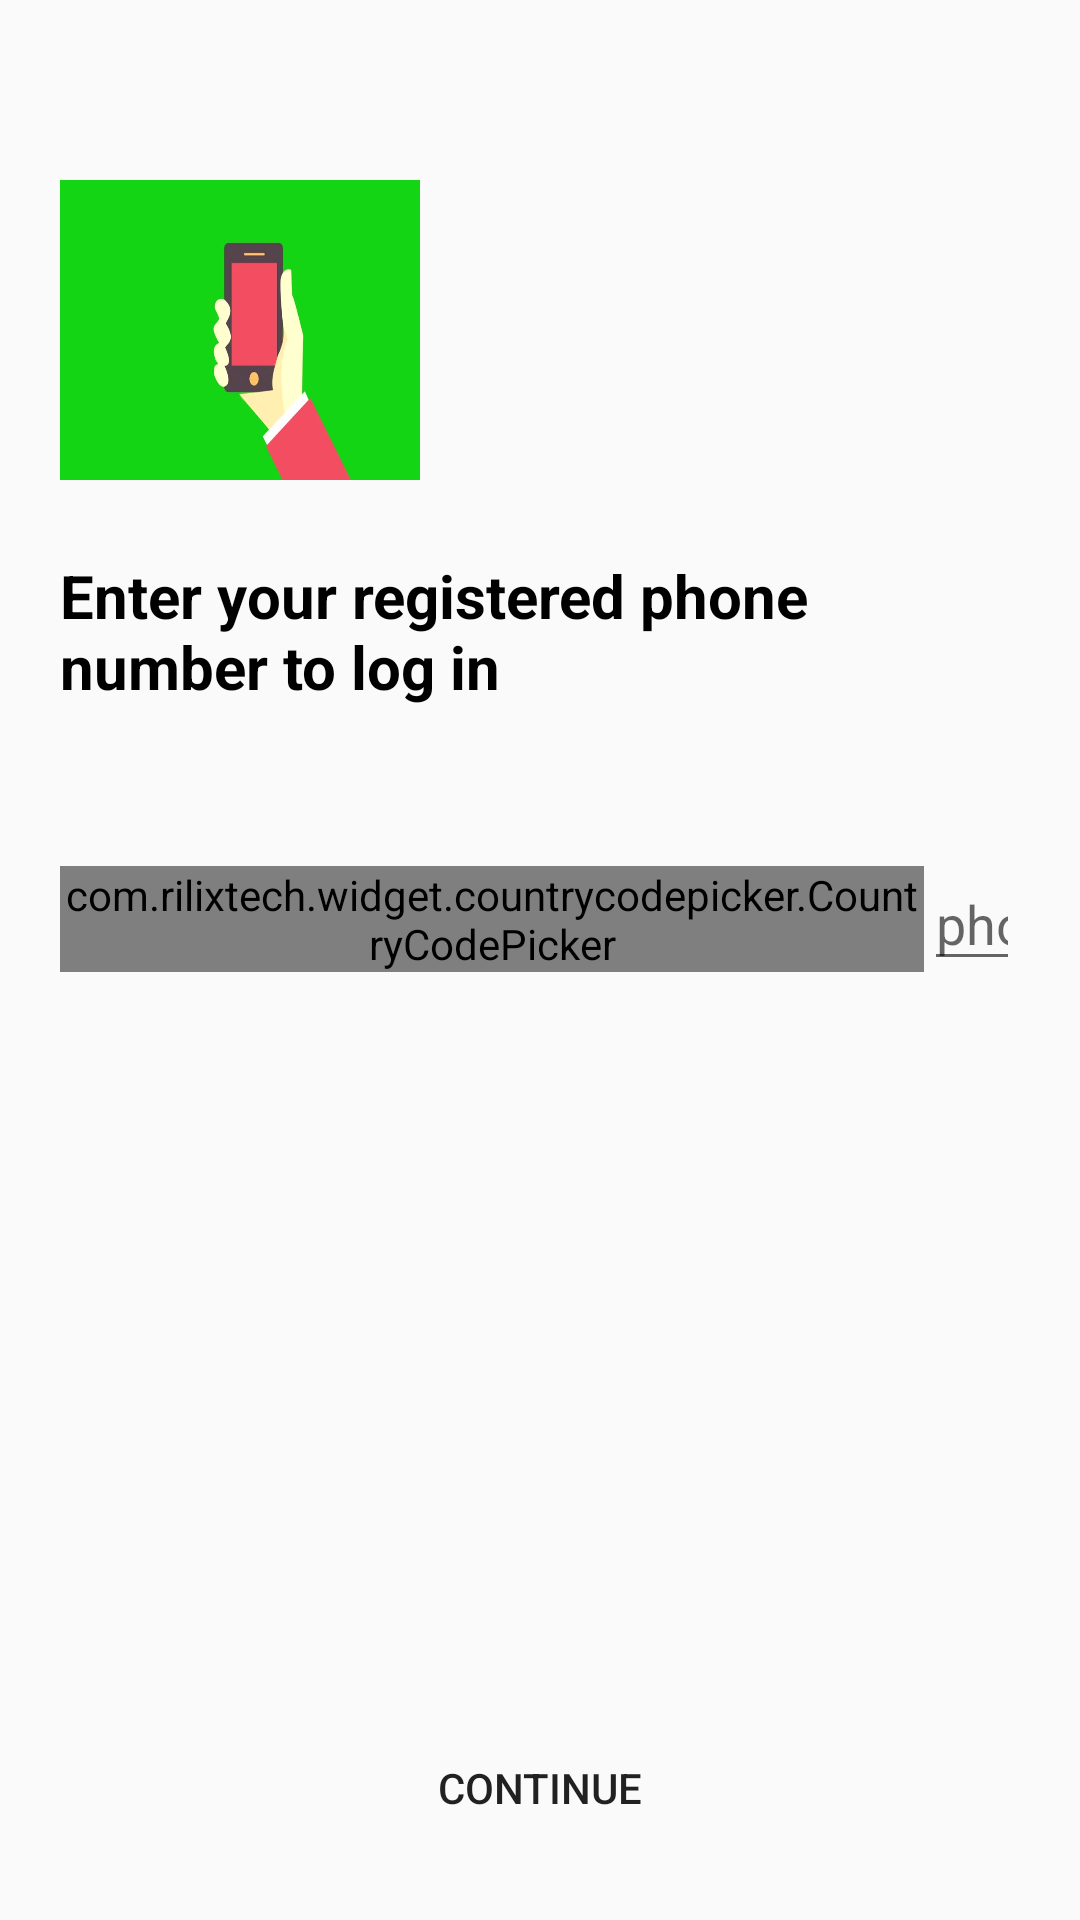

Named icons in this screenshot (1080x1920) and their bounding boxes, Rect(x1, y1, x2, y2):
mobile pic: Rect(60, 180, 420, 480)
